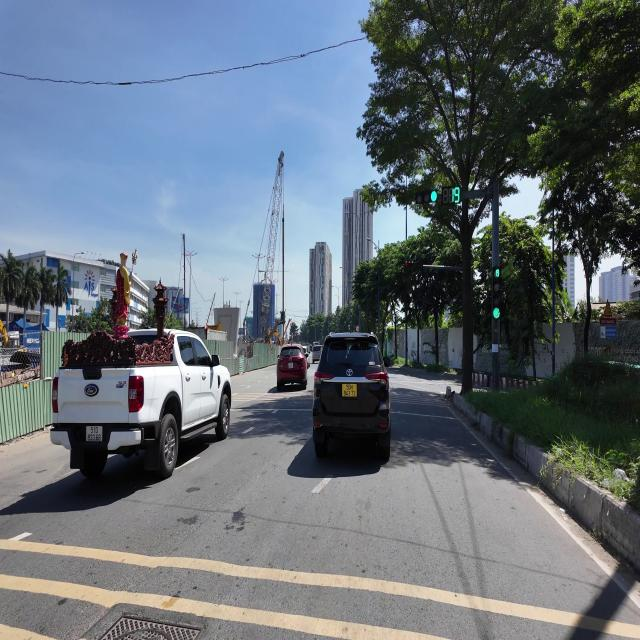car: (51, 330, 231, 477), (313, 333, 390, 461), (277, 344, 308, 390), (312, 344, 322, 363)
